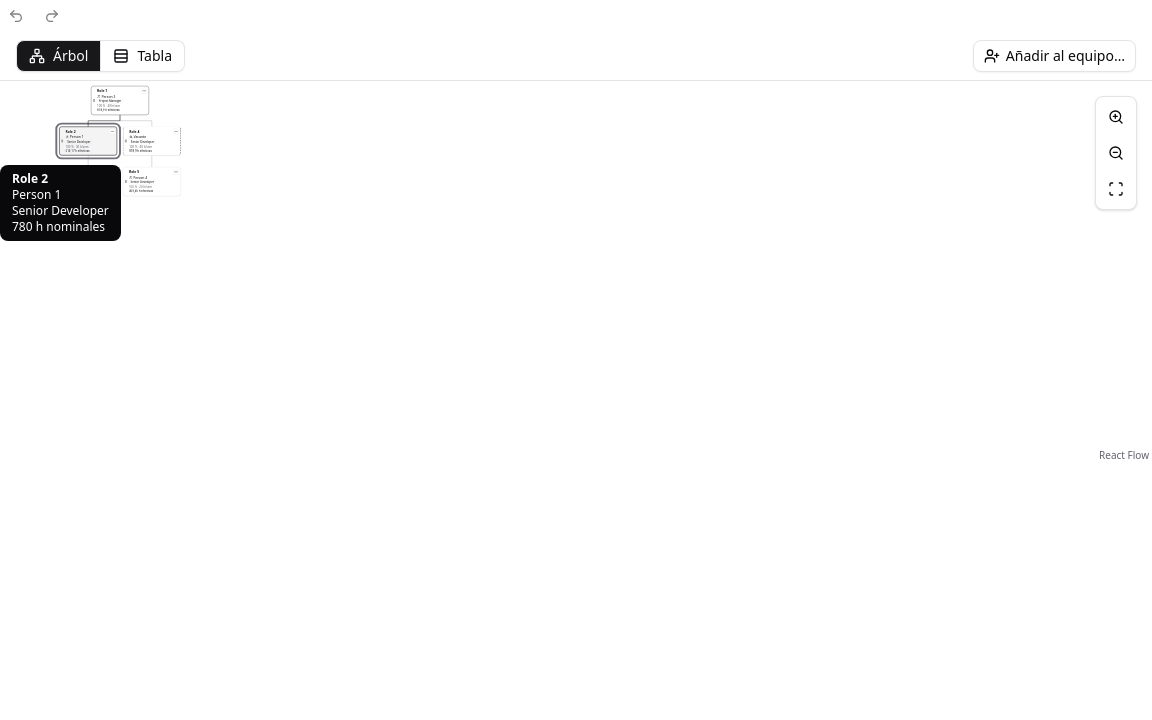
the team's menus › names the date a problem is about, and takes the keyboard there
Press Enter
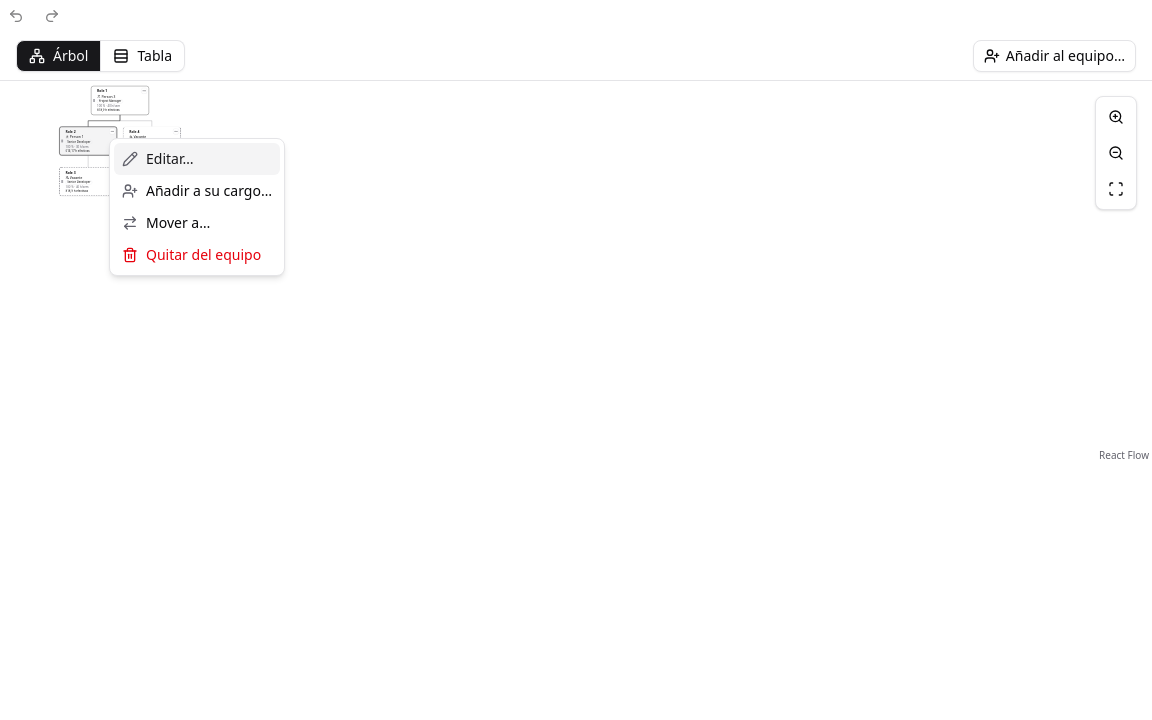
Click the menu item "Editar…" at (197, 159), box [114, 143, 280, 175]
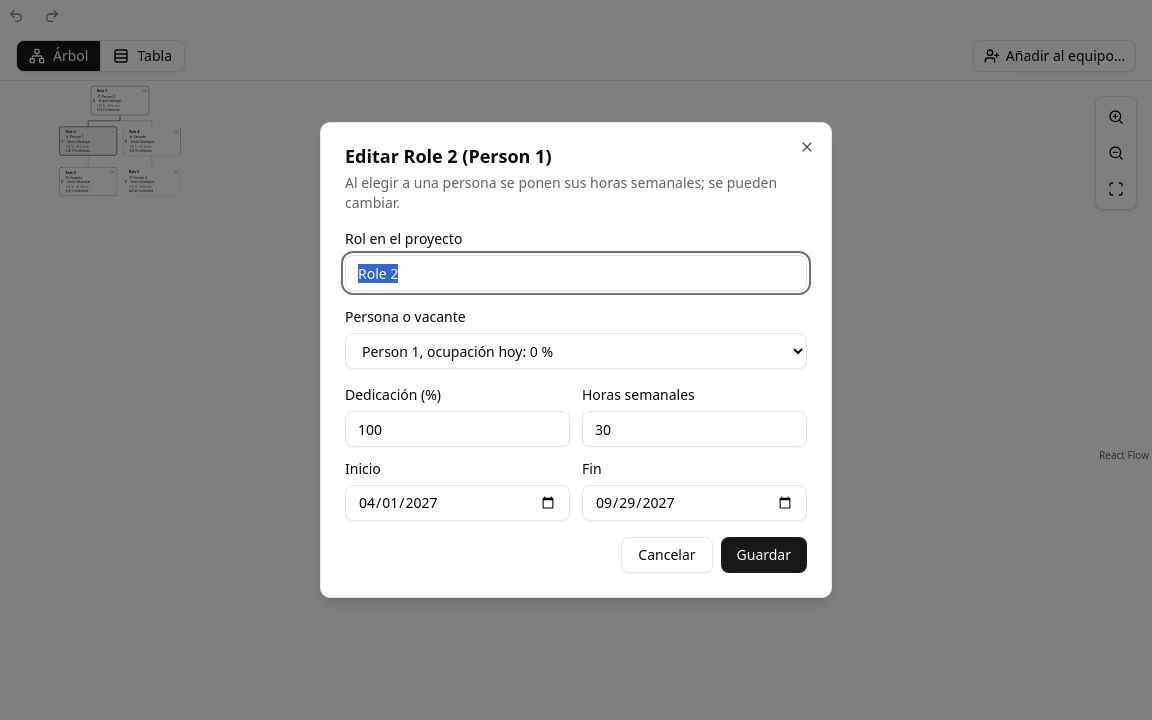
Clear the date field labelled "Inicio" at (458, 503), box [345, 485, 570, 521]
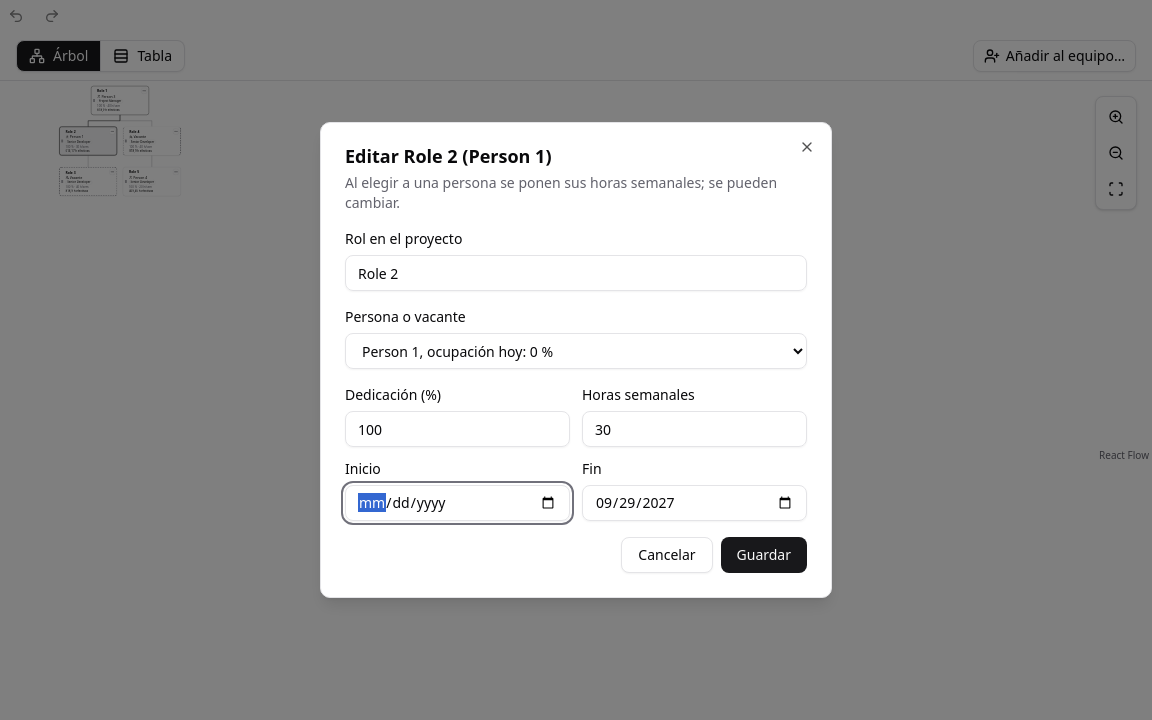
Click the button "Guardar" at (764, 555), box [720, 537, 807, 573]
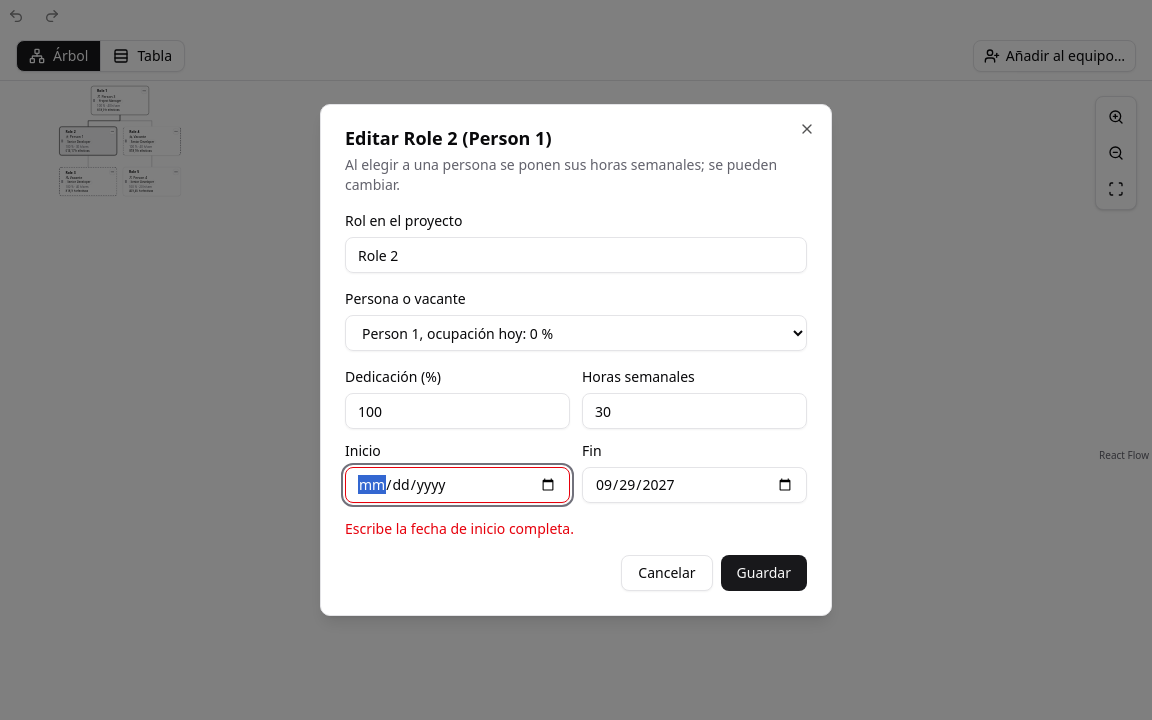
Check: the message reads "Escribe la fecha de inicio completa.", box [345, 519, 574, 538]
